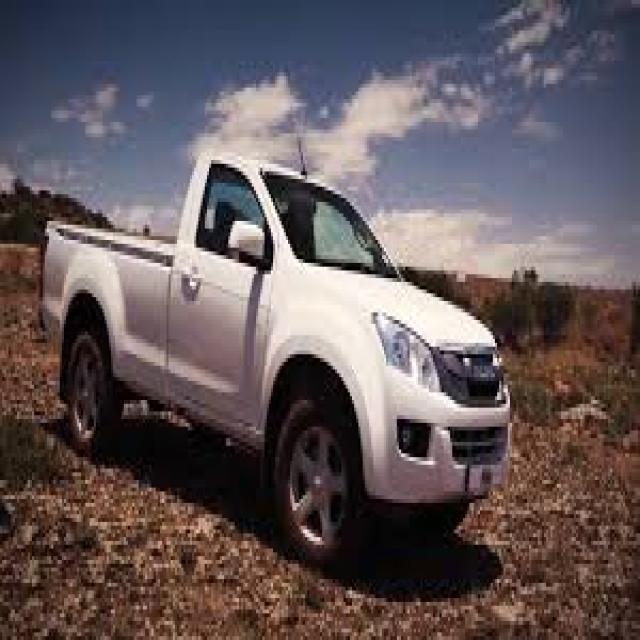Pickup Trucks: (38, 156, 512, 575)
